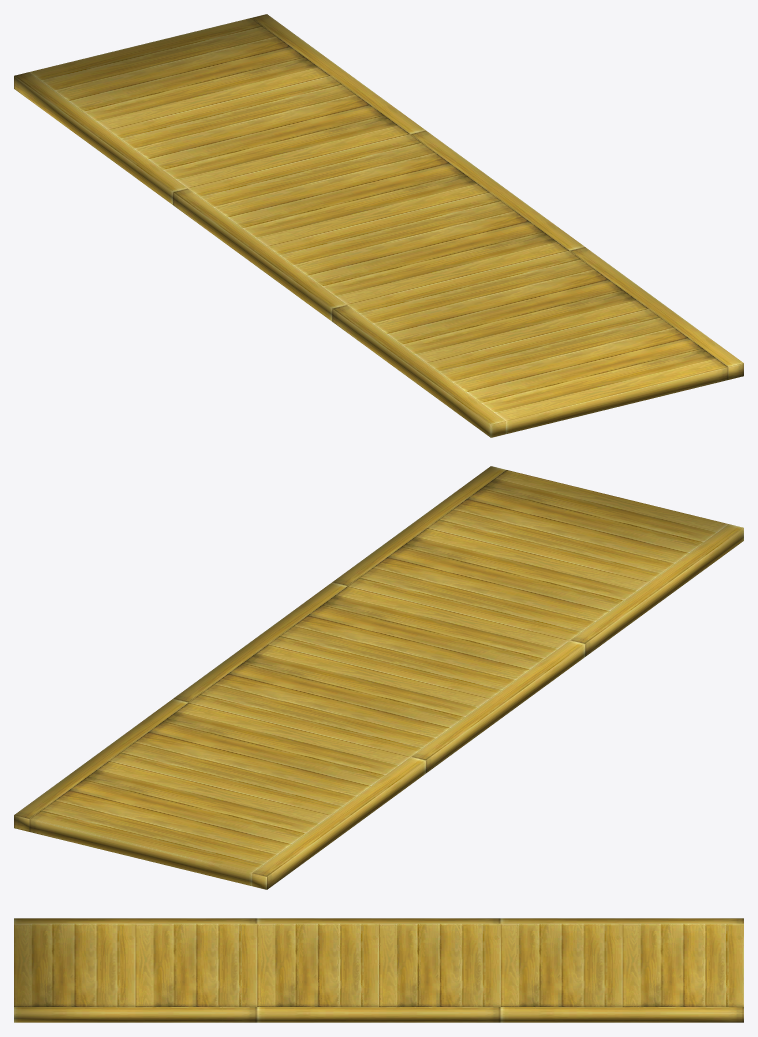
Rendered from HTOWN01_MILLPLATFORM01.fbx.
3 renders of one model, top to bottom at view 1: azimuth 30°, elevation 25°; view 2: azimuth 150°, elevation 25°; view 3: azimuth 270°, elevation 25°, orthographic. The views are drawn at different scales.
Visible parts, largest first — view 1: HTOWN01_MILLPLATFORM01; view 2: HTOWN01_MILLPLATFORM01; view 3: HTOWN01_MILLPLATFORM01.
Part boxes in pixels (left/top/right/bottom): HTOWN01_MILLPLATFORM01: left=14, top=14, right=743, bottom=437; HTOWN01_MILLPLATFORM01: left=14, top=466, right=743, bottom=889; HTOWN01_MILLPLATFORM01: left=14, top=918, right=743, bottom=1022.
Bounding box in the file's own units: 38537 × 1897 × 125820.
1 material, 1 textured.
